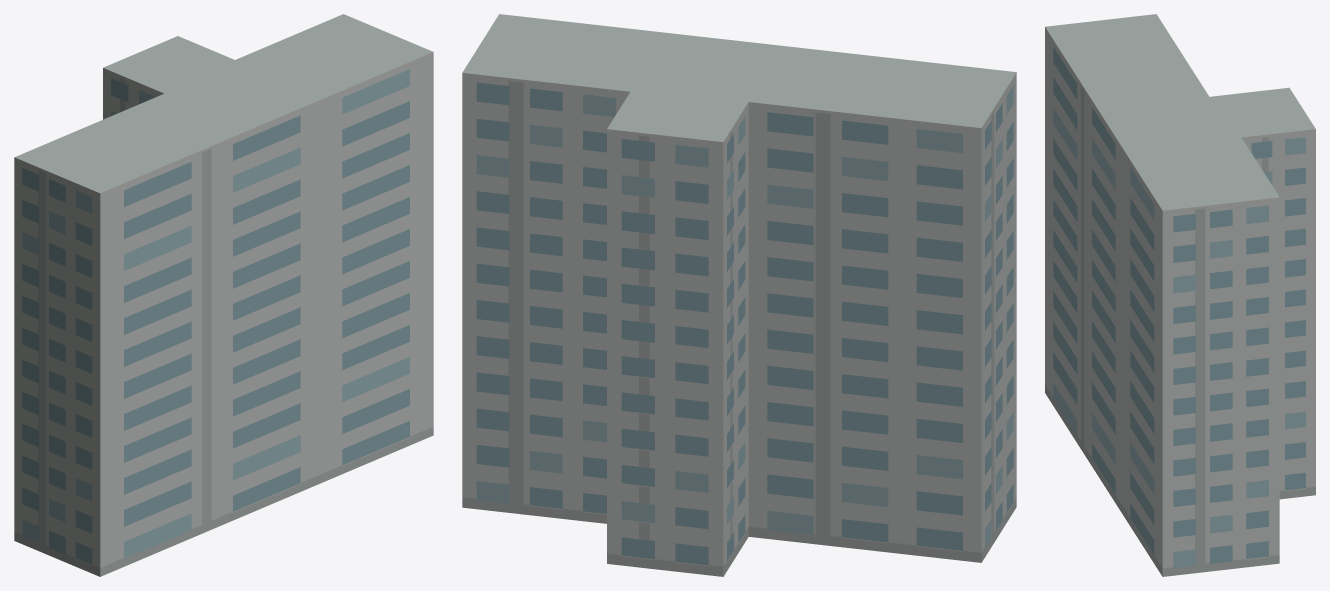
Rendered from residential-536694fd-783d-431c-a9db-6d4118cdd38d.glb.
3 views of the same model, side by side, from view 1: azimuth 30°, elevation 25°; view 2: azimuth 150°, elevation 25°; view 3: azimuth 270°, elevation 25° (orthographic). The views are drawn at different scales.
Parts seen in each view (by area): view 1: residential-536694fd-783d-431c-a9db-6d4118cdd38d.tmp; view 2: residential-536694fd-783d-431c-a9db-6d4118cdd38d.tmp; view 3: residential-536694fd-783d-431c-a9db-6d4118cdd38d.tmp.
Boxes of the visible parts, x1,y1,x2,y2 form: residential-536694fd-783d-431c-a9db-6d4118cdd38d.tmp: (14,14,433,576); residential-536694fd-783d-431c-a9db-6d4118cdd38d.tmp: (462,14,1016,576); residential-536694fd-783d-431c-a9db-6d4118cdd38d.tmp: (1045,14,1315,576).
Size of the model in its own units: 42.18 by 36.6 by 24.55.
